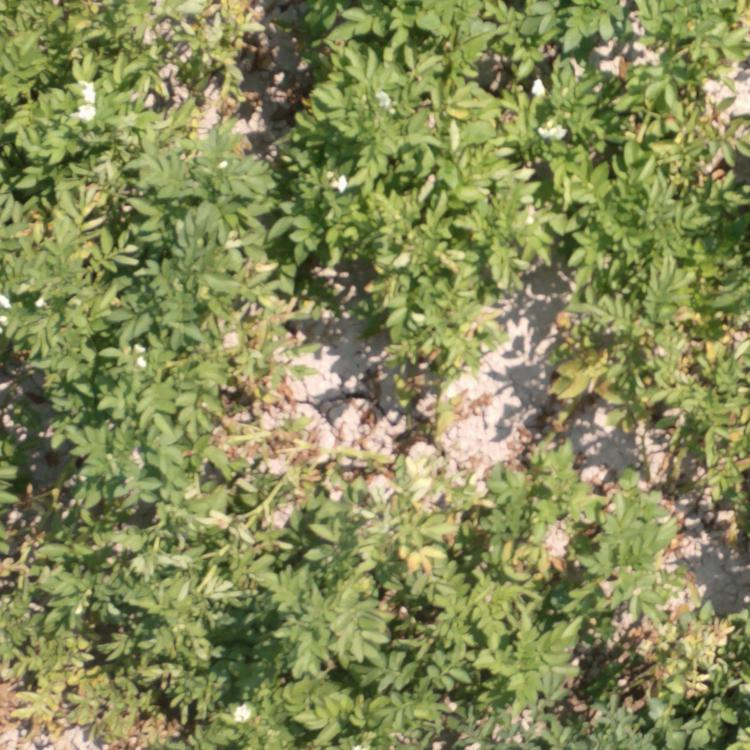healthy: (338, 4, 748, 294), (1, 139, 323, 432), (201, 573, 592, 750), (5, 432, 346, 561), (362, 444, 555, 557), (378, 297, 504, 414)
stressed: (555, 297, 750, 569), (1, 7, 321, 133), (4, 557, 185, 750), (592, 575, 750, 746)
